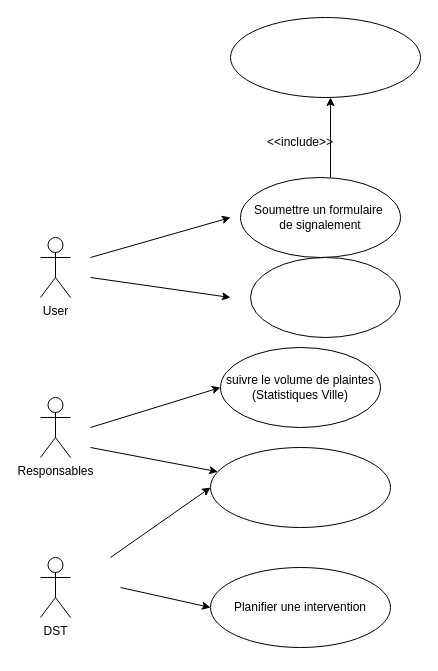
This 438x671 diagram has some shape labels left out. The centre of each missing label's shape, as x and y in pixels:
Consulter les signalements: [300,487]
Gérer son compte: [325,297]
Joindre une photo géolocalisée: [325,57]
